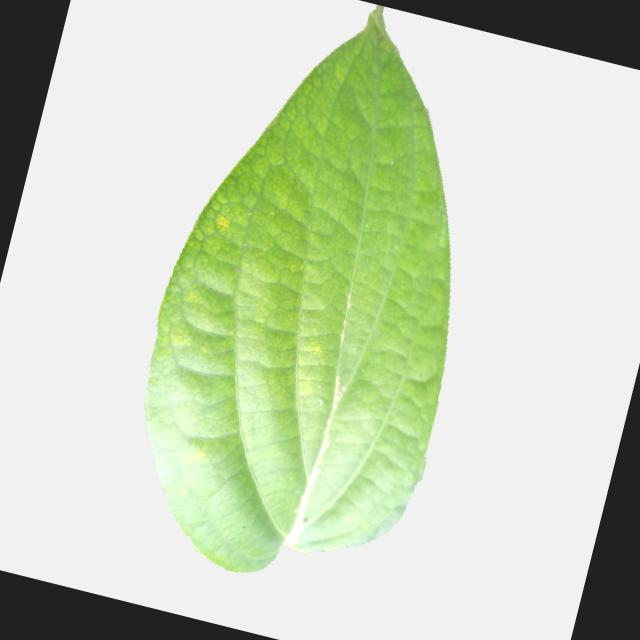healthy: (91, 0, 540, 615)
